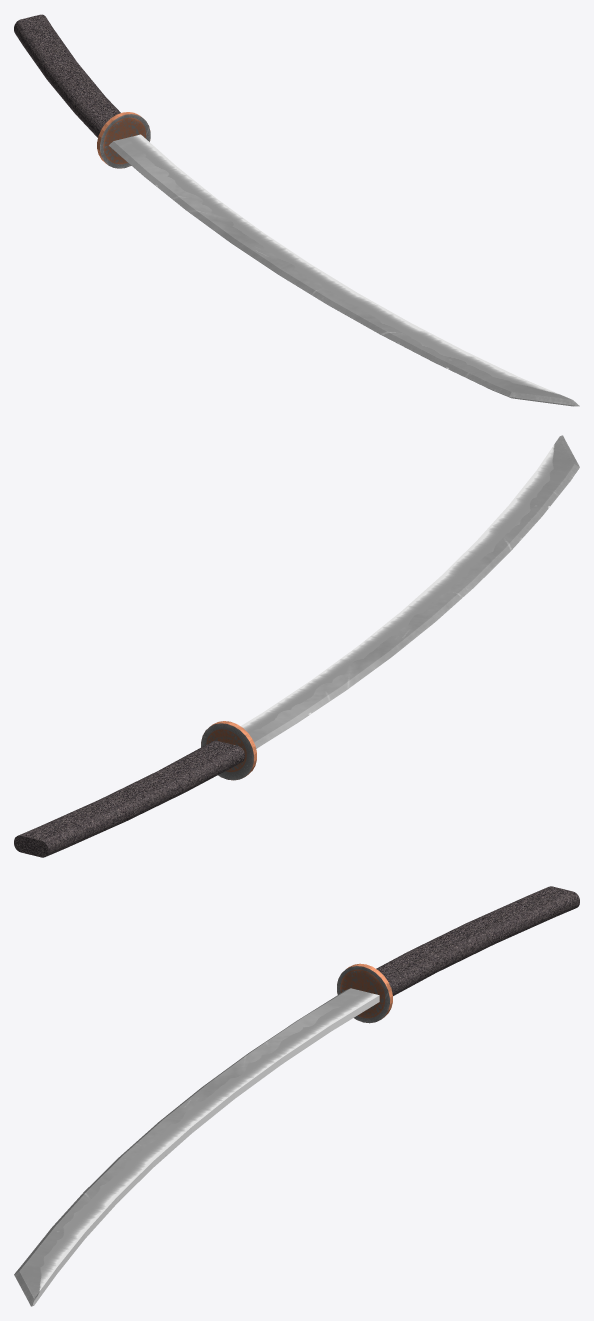
Rendered from Katana.fbx.
3 views of the same model, one above another, from view 1: azimuth 30°, elevation 25°; view 2: azimuth 150°, elevation 25°; view 3: azimuth 330°, elevation 25° (orthographic). The views are drawn at different scales.
Parts seen in each view (by area): view 1: Blade, handle, Guard; view 2: Blade, handle, Guard; view 3: Blade, handle, Guard.
Boxes of the visible parts, x1=… form: Blade: x1=108, y1=134, x2=579, y2=406; handle: x1=14, y1=14, x2=120, y2=137; Guard: x1=97, y1=112, x2=150, y2=168; Blade: x1=240, y1=435, x2=579, y2=748; handle: x1=14, y1=740, x2=244, y2=857; Guard: x1=201, y1=721, x2=256, y2=780; Blade: x1=14, y1=988, x2=379, y2=1306; handle: x1=376, y1=886, x2=579, y2=995; Guard: x1=337, y1=963, x2=392, y2=1023.
Size of the model in its own units: 9.19 by 5 by 89.85.
1 material, 1 textured.
